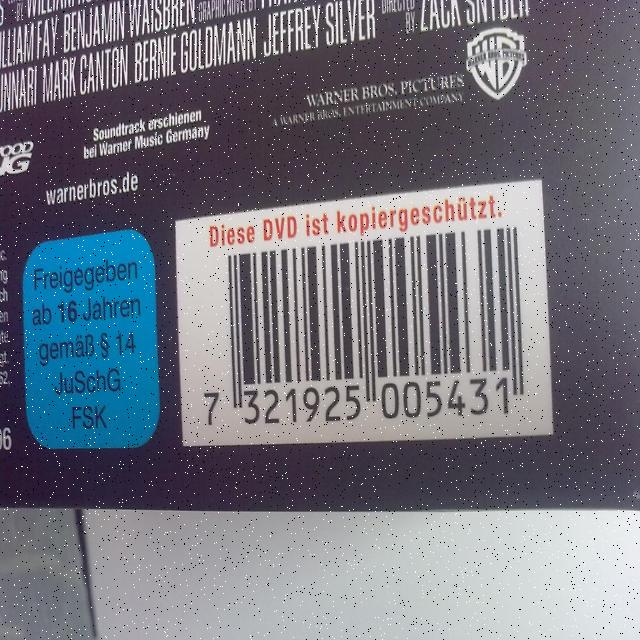barcode: (176, 180, 552, 447)
